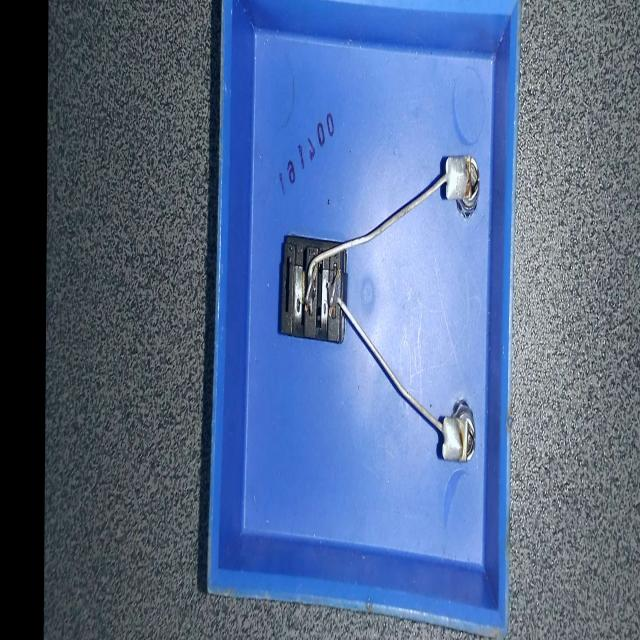ON-OFF Switch: (180, 0, 534, 631)
